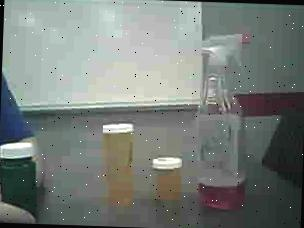Bottle A: (94, 121, 142, 216)
Bottle B: (144, 147, 186, 212)
Bottle C: (0, 134, 52, 224)
hazard: (184, 27, 272, 222)
